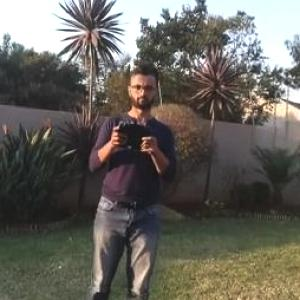follow: (78, 55, 182, 299)
